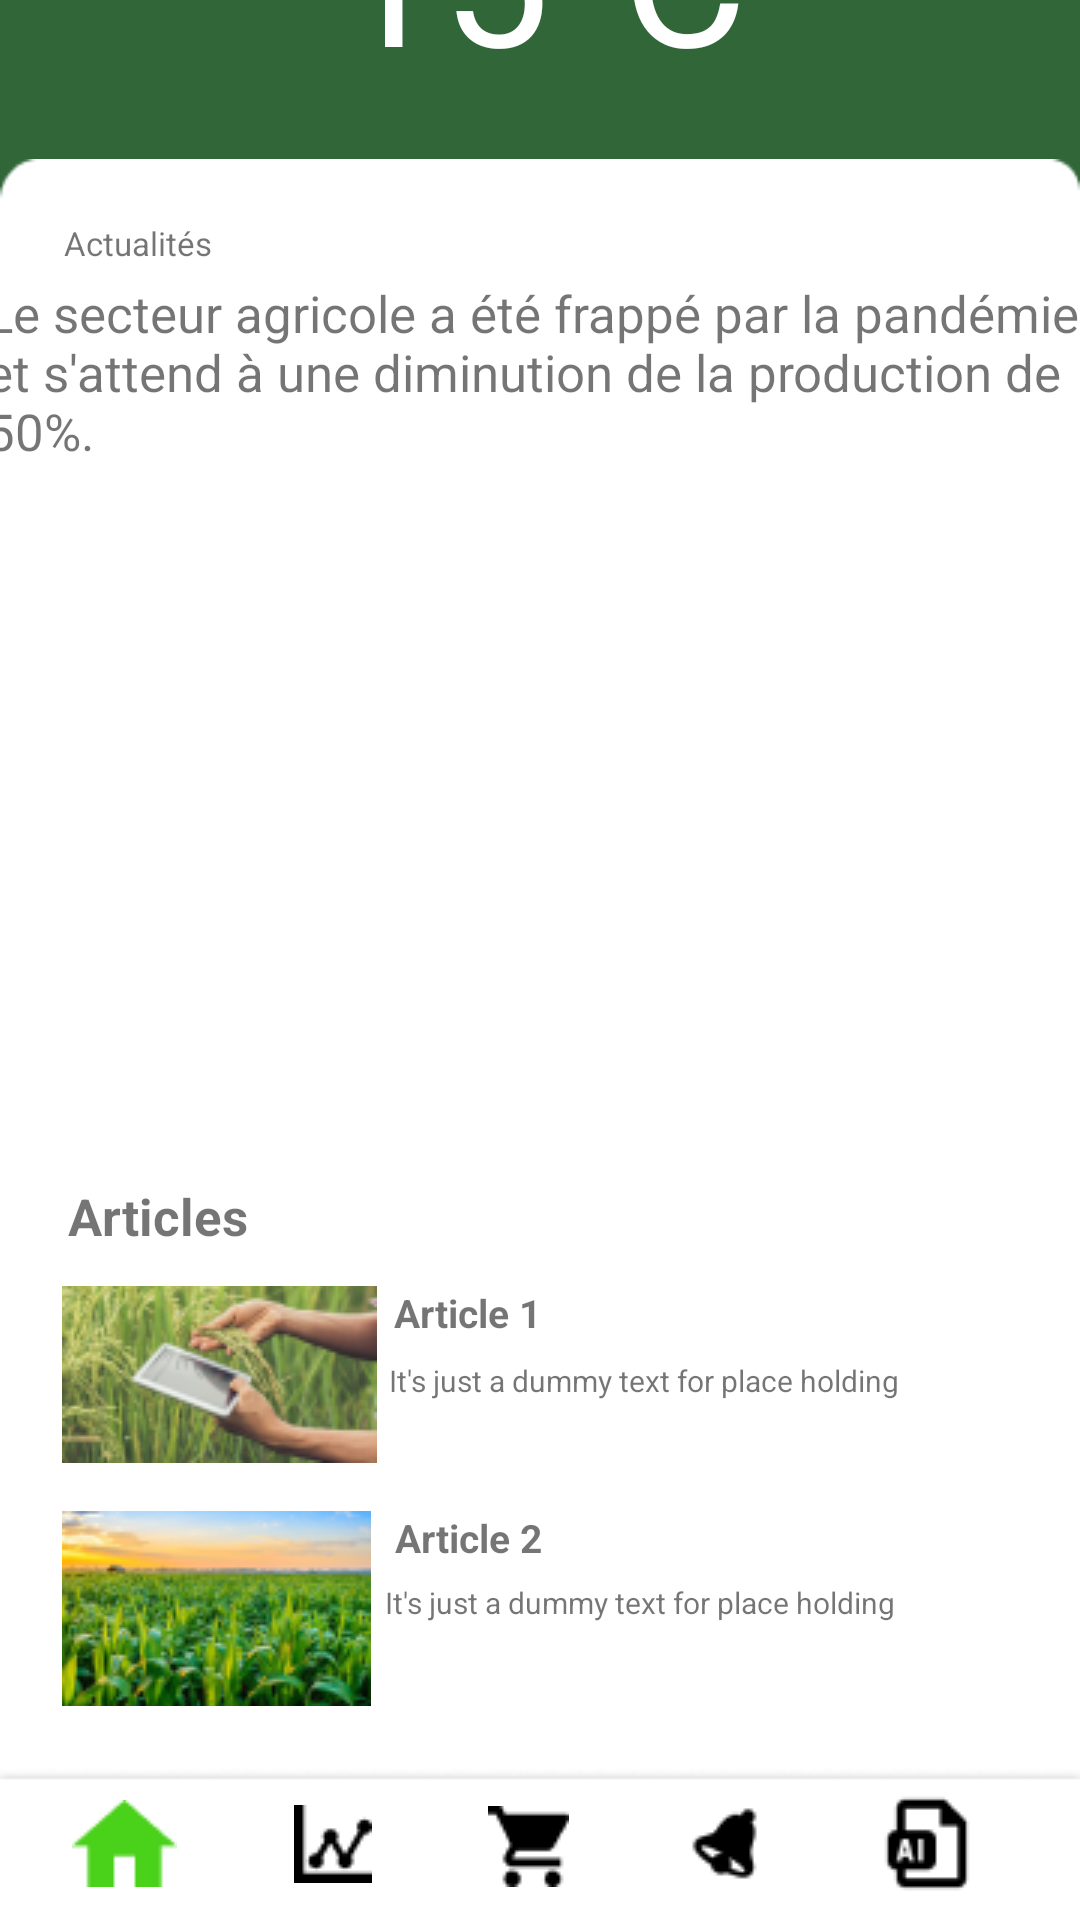

Locate icon controls on the screen. Image size 1080 x 1920, boxes as BBox(x1, y1, x2, y2).
alert: BBox(692, 1808, 757, 1879)
home: BBox(72, 1800, 177, 1887)
market: BBox(488, 1806, 569, 1887)
secondary news: BBox(62, 1286, 377, 1463), BBox(62, 1511, 371, 1706)
stats: BBox(294, 1805, 372, 1883)
